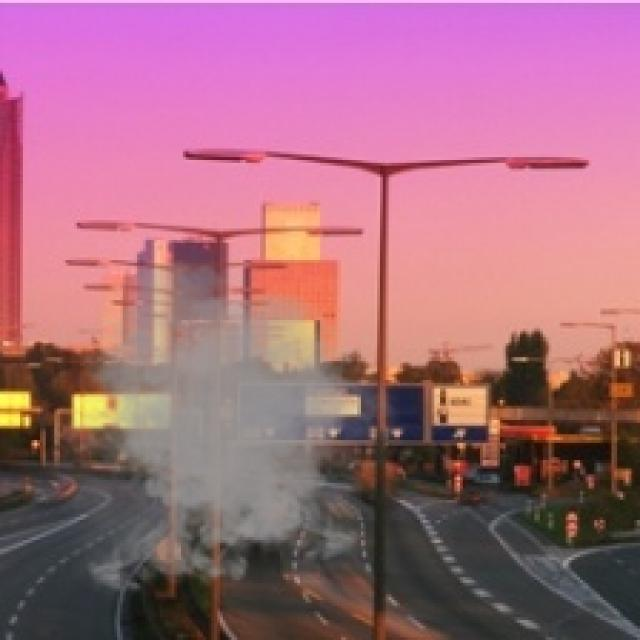smoke: (32, 254, 414, 603)
